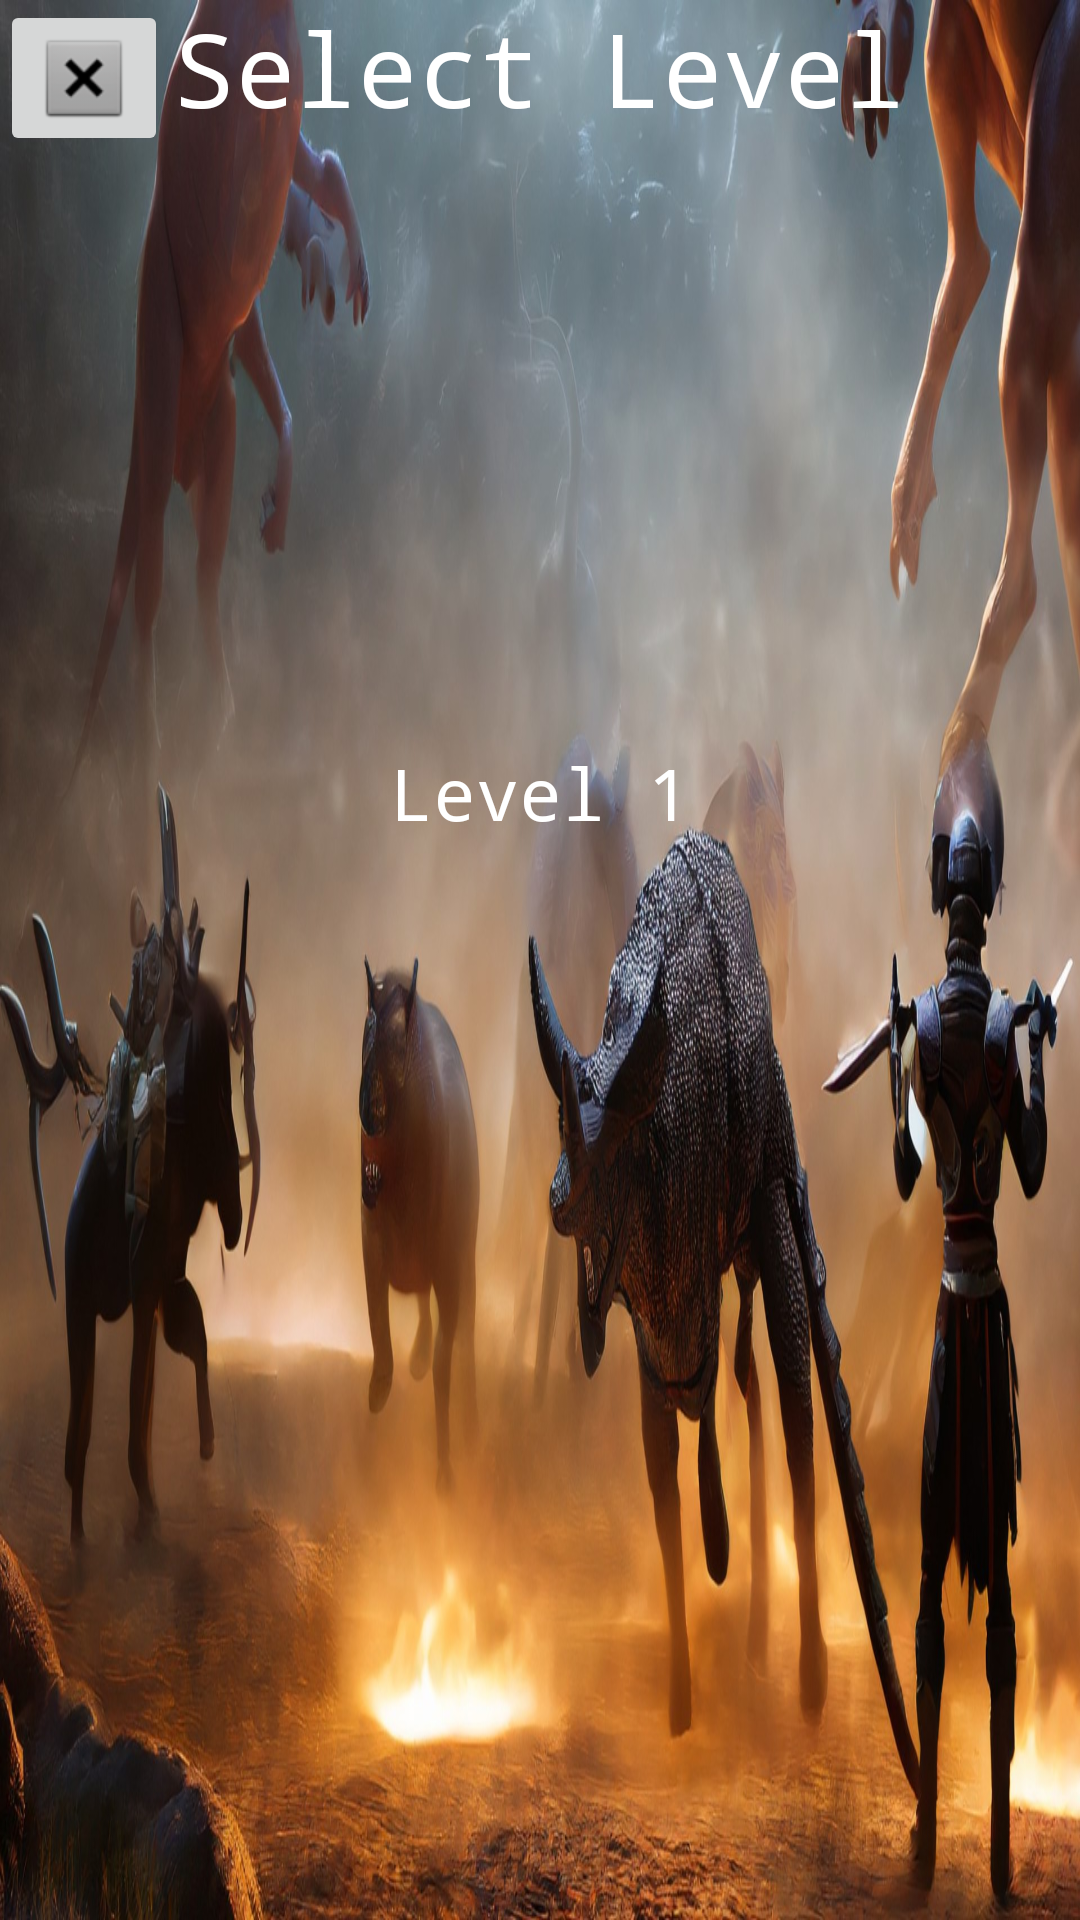

Icon click points for this 1080×1920 phone screenshot, format point (x, y):
Its close exit button: point (84, 78)
